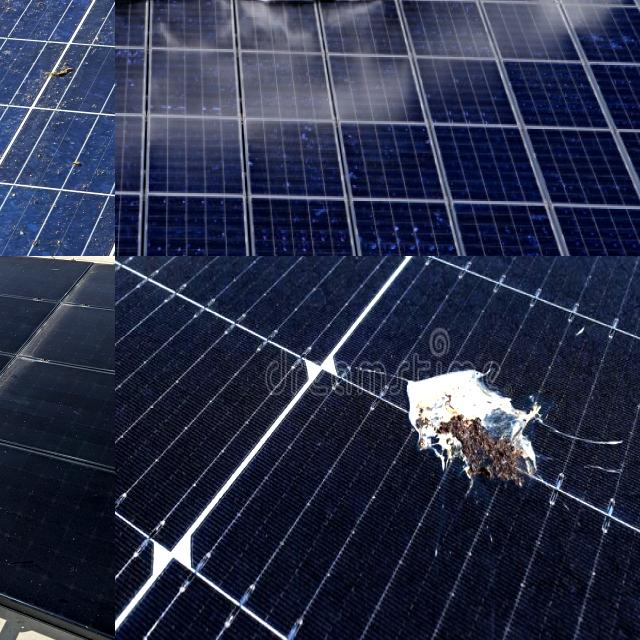bird: (382, 345, 616, 499), (0, 34, 114, 110), (0, 198, 44, 256)
dust: (0, 466, 115, 592), (0, 416, 78, 480), (31, 386, 115, 443), (0, 347, 64, 399), (0, 294, 56, 330), (77, 324, 115, 367)
panel: (250, 0, 431, 125), (441, 0, 640, 96), (115, 0, 246, 132), (115, 0, 139, 151)
